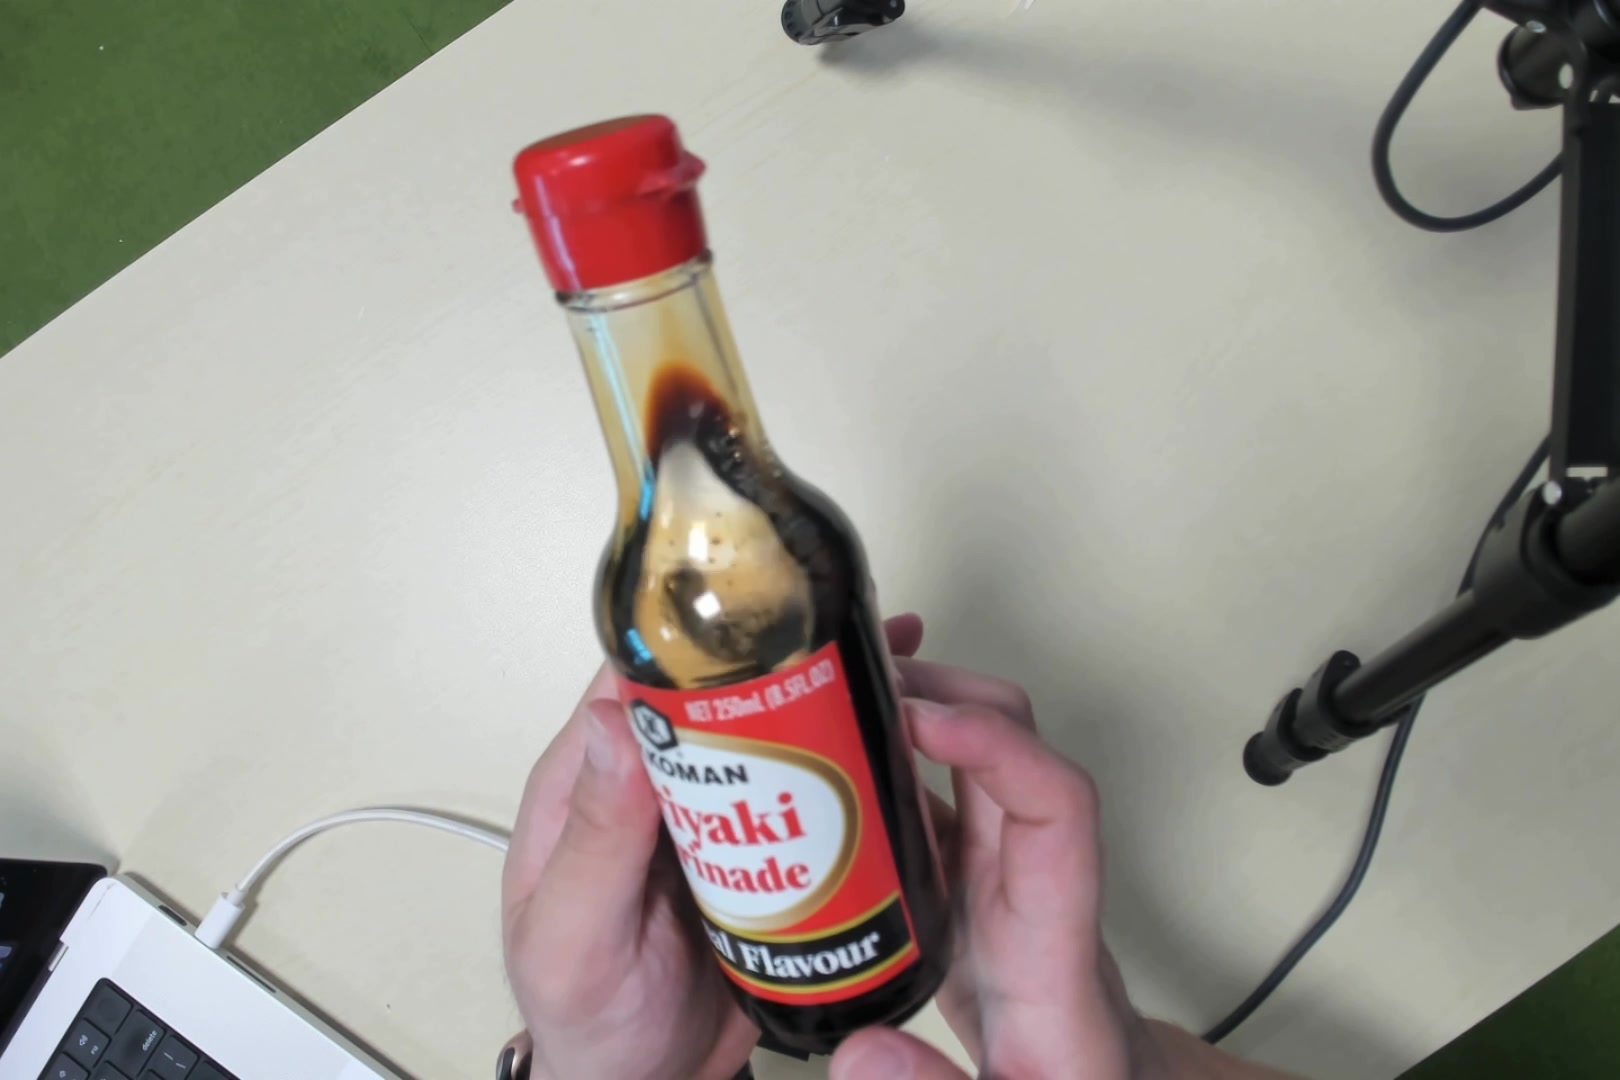OtherSauceDressingSoupbasePaste_200-299g_NonHalal_NonHealthy: (527, 137, 943, 999)
